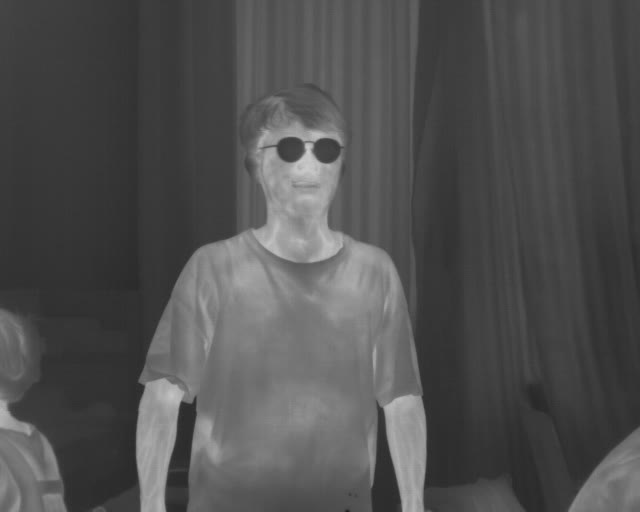face: (243, 181, 335, 296)
